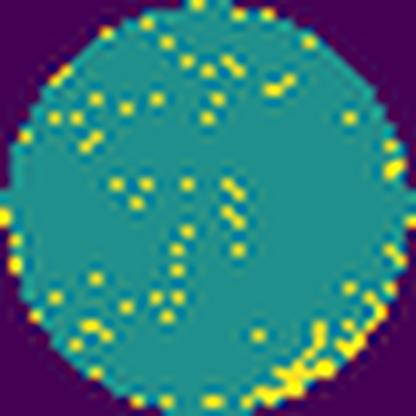Edge-Loc: (239, 312, 339, 410), (336, 282, 392, 361)
